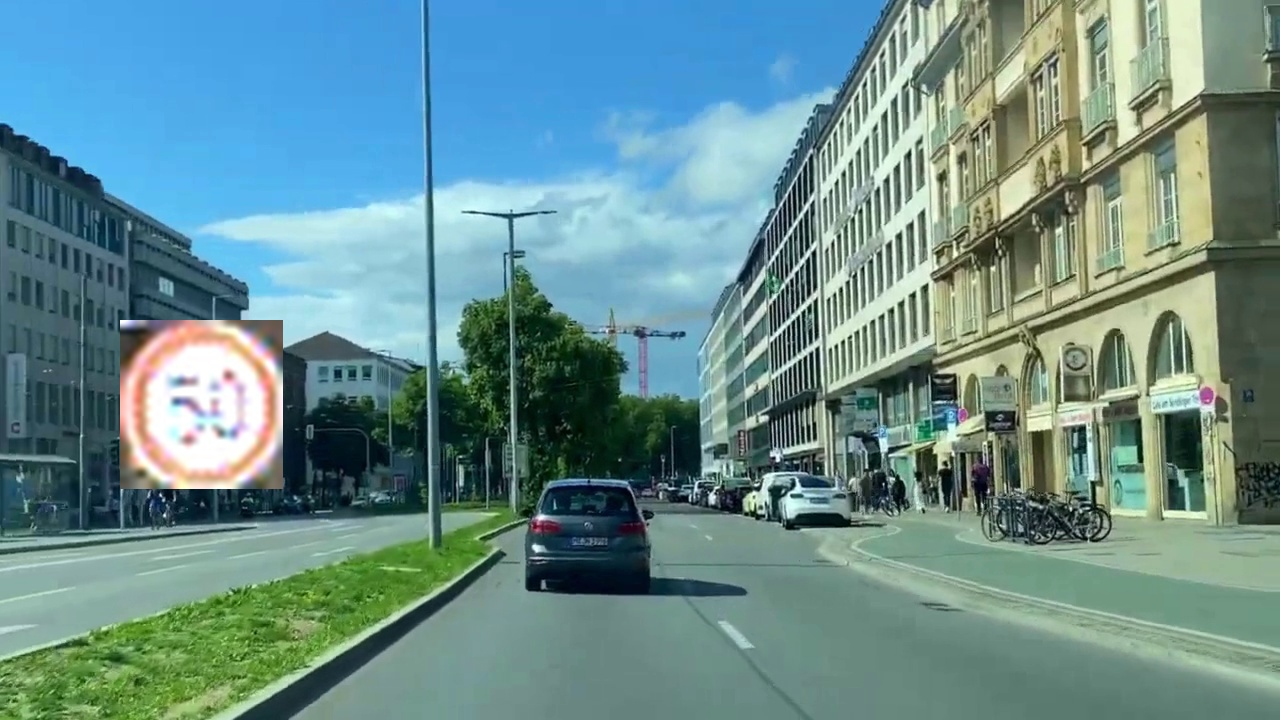Speed 50: (120, 320, 283, 489)
